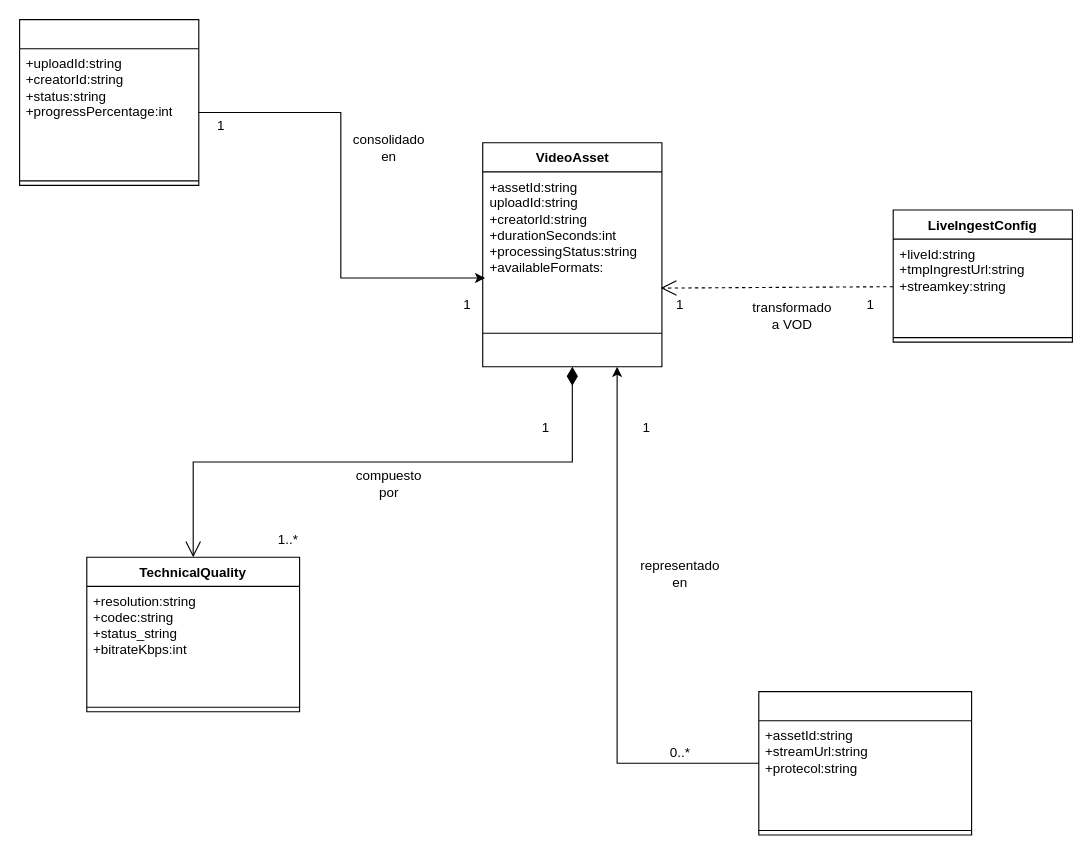
The diagram is 1092 pixels wide and 855 high, and some of its shapes have lost their labels. The box of each missing label's shape, as (x1, y1, x2, y2) in pixels:
PlaybackManifest: (758, 690, 972, 835)
UploadSesion: (18, 18, 199, 185)
